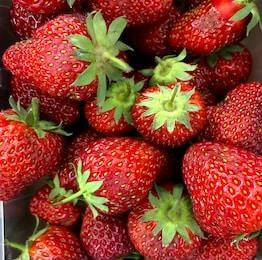Fresa: (2, 10, 112, 106), (178, 133, 262, 244), (75, 132, 174, 219), (1, 103, 66, 208), (130, 79, 211, 149)
